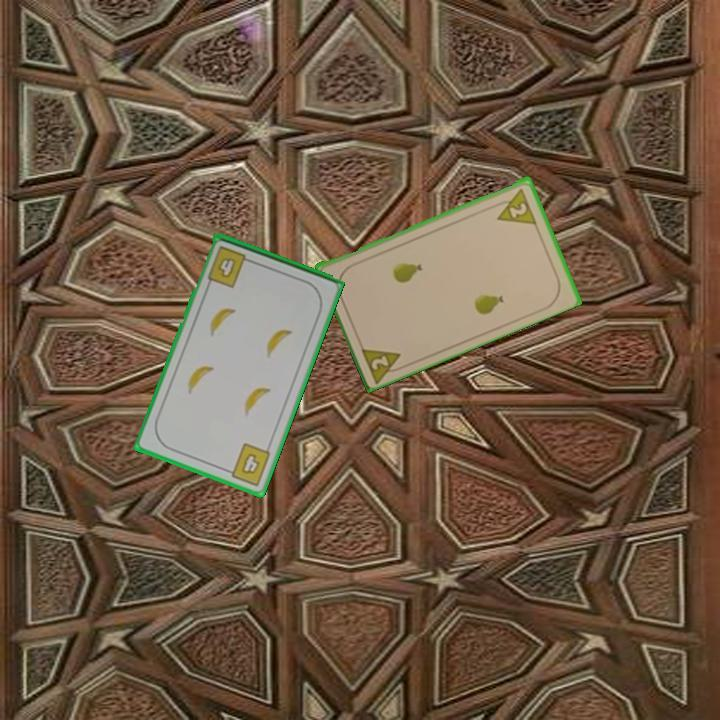2p: (357, 342, 409, 384), (490, 184, 539, 227)
4b: (221, 439, 274, 489), (204, 242, 256, 291)
